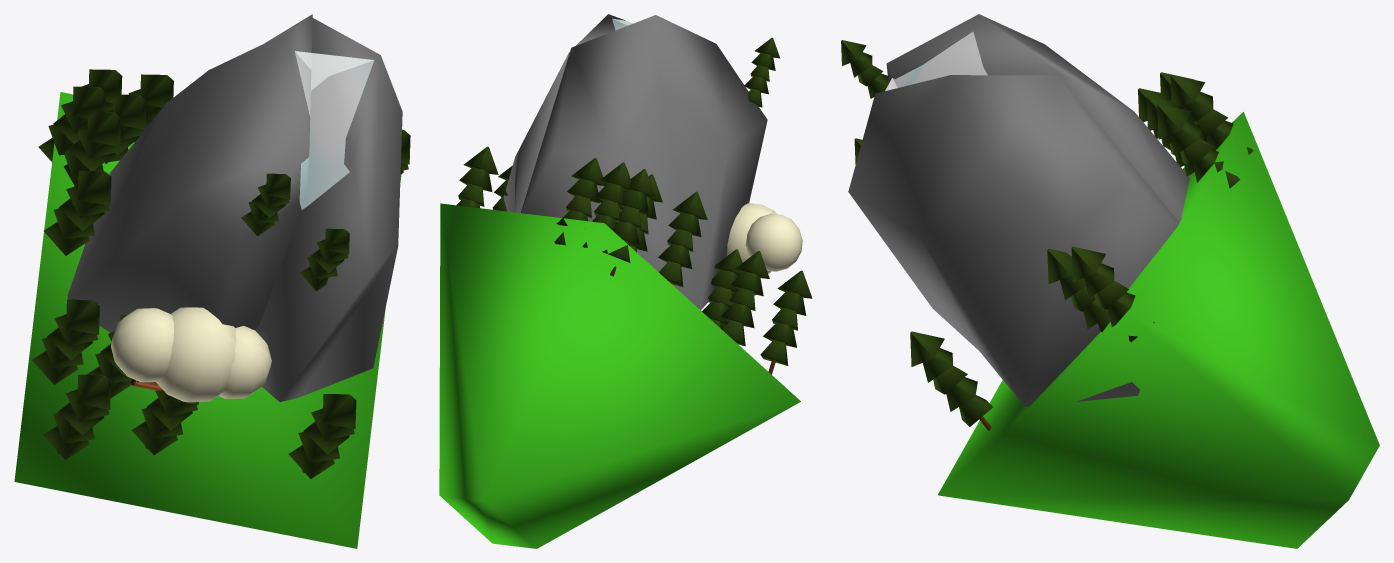
Rendered from forest.fbx.
3 views of the same model, side by side, from view 1: azimuth 30°, elevation 25°; view 2: azimuth 150°, elevation 25°; view 3: azimuth 270°, elevation 25° (orthographic). The views are drawn at different scales.
Parts seen in each view (by area): view 1: mesh735, mesh734, mesh736, mesh737, mesh1043, mesh1044, mesh1042, mesh809, mesh815, mesh743, mesh803, mesh773 (+28 smaller); view 2: mesh734, mesh735, mesh736, mesh1044, mesh1043, mesh813, mesh807, mesh741, mesh743, mesh749, mesh811, mesh809 (+9 smaller); view 3: mesh734, mesh736, mesh735, mesh737, mesh749, mesh785, mesh803, mesh761, mesh755, mesh801.
Boxes of the visible parts, x1=… form: mesh735: x1=67, y1=14, x2=312, y2=332; mesh734: x1=14, y1=92, x2=401, y2=548; mesh736: x1=255, y1=18, x2=402, y2=402; mesh737: x1=295, y1=51, x2=374, y2=209; mesh1043: x1=156, y1=307, x2=236, y2=402; mesh1044: x1=111, y1=308, x2=174, y2=382; mesh1042: x1=219, y1=326, x2=271, y2=398; mesh809: x1=77, y1=374, x2=110, y2=409; mesh815: x1=66, y1=299, x2=99, y2=334; mesh743: x1=77, y1=170, x2=111, y2=205; mesh803: x1=322, y1=394, x2=356, y2=429; mesh773: x1=87, y1=111, x2=120, y2=146; mesh734: x1=439, y1=203, x2=800, y2=548; mesh735: x1=520, y1=15, x2=767, y2=310; mesh736: x1=503, y1=14, x2=632, y2=212; mesh1044: x1=745, y1=213, x2=802, y2=271; mesh1043: x1=726, y1=203, x2=776, y2=273; mesh813: x1=720, y1=303, x2=754, y2=328; mesh807: x1=763, y1=322, x2=796, y2=347; mesh741: x1=658, y1=243, x2=692, y2=268; mesh743: x1=673, y1=191, x2=707, y2=219; mesh749: x1=463, y1=146, x2=498, y2=174; mesh811: x1=731, y1=271, x2=763, y2=296; mesh809: x1=777, y1=270, x2=812, y2=298; mesh734: x1=938, y1=112, x2=1379, y2=548; mesh736: x1=848, y1=75, x2=1179, y2=406; mesh735: x1=886, y1=14, x2=1189, y2=221; mesh737: x1=885, y1=32, x2=987, y2=90; mesh749: x1=1071, y1=246, x2=1105, y2=282; mesh785: x1=1157, y1=104, x2=1191, y2=139; mesh803: x1=910, y1=331, x2=944, y2=366; mesh761: x1=1170, y1=75, x2=1204, y2=107; mesh755: x1=1047, y1=248, x2=1072, y2=284; mesh801: x1=946, y1=377, x2=977, y2=411.
Bounding box in the file's own units: 705 × 898 × 846.
